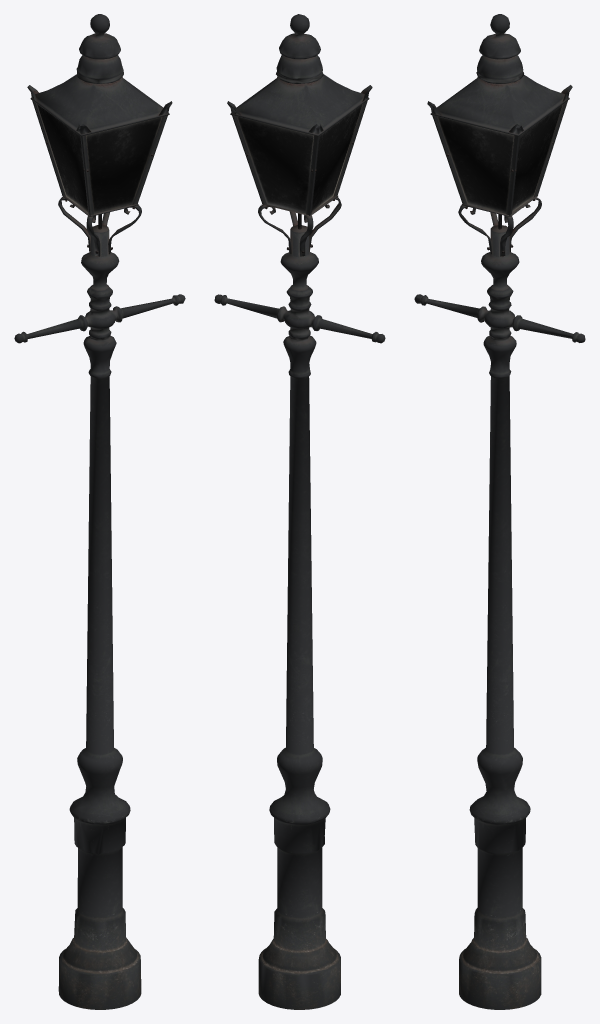
Rendered from lamp.glb.
3 renders of one model, left to right at view 1: azimuth 30°, elevation 25°; view 2: azimuth 150°, elevation 25°; view 3: azimuth 330°, elevation 25°, orthographic.
Visible parts, largest first — view 1: street_lamp_01; view 2: street_lamp_01; view 3: street_lamp_01.
Part boxes in pixels (x1,y1,x2,y2): street_lamp_01: [14, 14, 185, 1009]; street_lamp_01: [214, 14, 385, 1009]; street_lamp_01: [414, 14, 585, 1009].
Bounding box in the file's own units: 0.7034 × 3.87 × 0.3844.
Materials: 3 (3 with a texture image).
